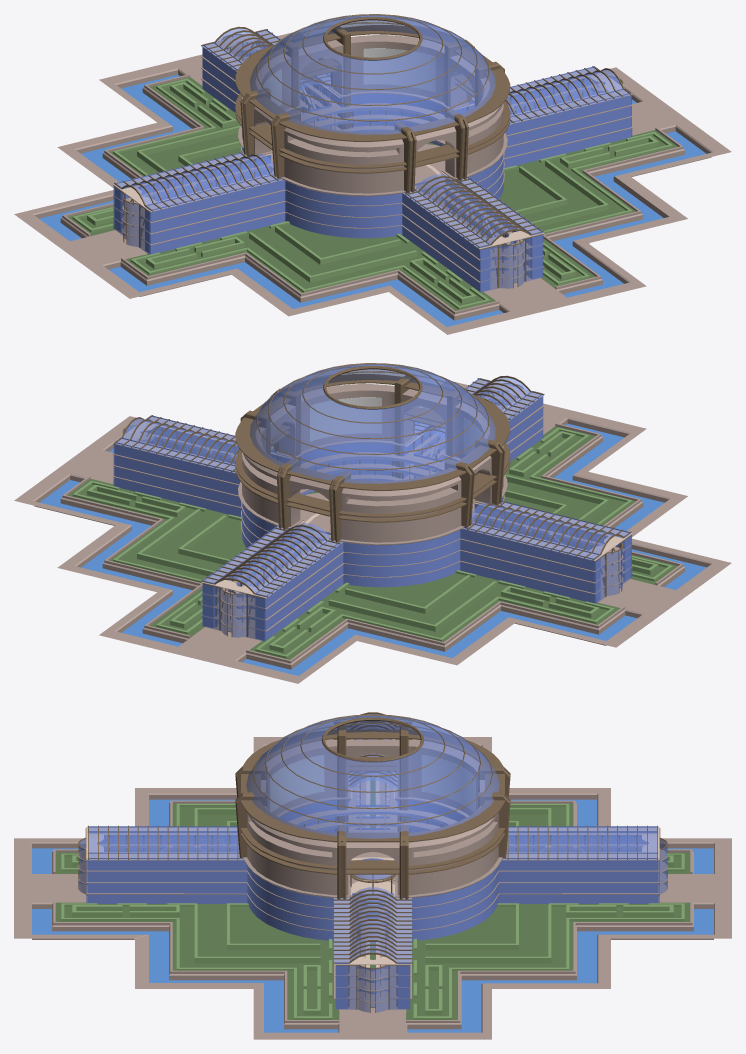
File: Fbx_plaza_nuruk.fbx
3 views of the same model, one above another, from view 1: azimuth 30°, elevation 25°; view 2: azimuth 150°, elevation 25°; view 3: azimuth 270°, elevation 25° (orthographic). The views are drawn at different scales.
Visible parts, largest first — view 1: Plaza_central_edificio, Plaza_central_piso, Plaza_central_paredes, Jardines, Aviso_luminoso.001, Puertas; view 2: Plaza_central_edificio, Plaza_central_piso, Plaza_central_paredes, Jardines, Aviso_luminoso.002, Puertas; view 3: Plaza_central_edificio, Plaza_central_piso, Plaza_central_paredes, Jardines, Aviso_luminoso, Aviso_luminoso.003.
Part boxes in pixels (x1,y1,x2,y2): Plaza_central_edificio: [113, 14, 632, 292]; Plaza_central_piso: [14, 32, 731, 334]; Plaza_central_paredes: [114, 29, 630, 291]; Jardines: [72, 78, 672, 309]; Aviso_luminoso.001: [363, 48, 435, 92]; Puertas: [129, 43, 591, 274]; Plaza_central_edificio: [113, 363, 632, 641]; Plaza_central_piso: [14, 381, 731, 683]; Plaza_central_paredes: [114, 378, 630, 640]; Jardines: [72, 427, 672, 658]; Aviso_luminoso.002: [310, 397, 381, 441]; Puertas: [154, 392, 615, 623]; Plaza_central_edificio: [78, 712, 667, 1012]; Plaza_central_piso: [14, 737, 731, 1039]; Plaza_central_paredes: [87, 826, 658, 1008]; Jardines: [61, 803, 684, 1019]; Aviso_luminoso: [422, 755, 475, 812]; Aviso_luminoso.003: [270, 755, 323, 812].
Bounding box in the file's own units: 30983 × 7420 × 31067.
